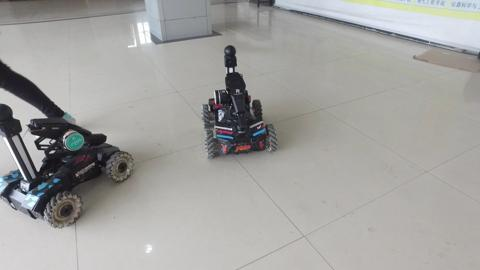chariot: (1, 102, 139, 226), (194, 40, 281, 162)
